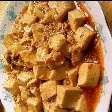mapodoufu: (1, 0, 101, 112)
